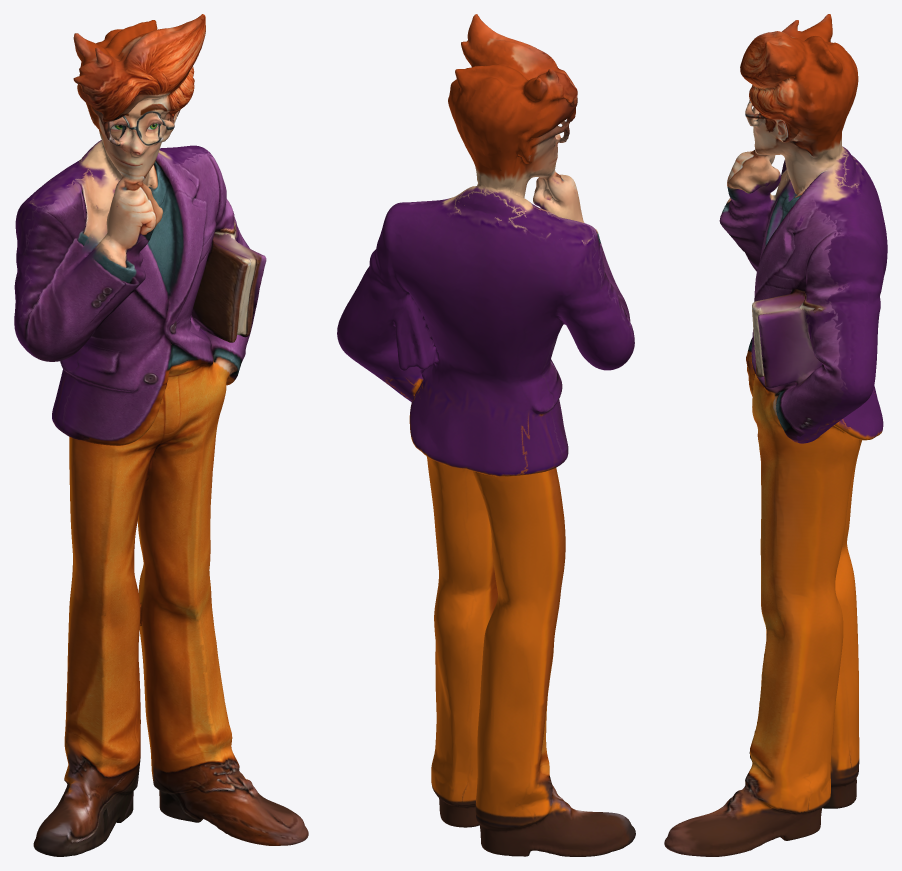
The model's file is current.glb.
3 views of the same model, side by side, from view 1: azimuth 30°, elevation 25°; view 2: azimuth 150°, elevation 25°; view 3: azimuth 270°, elevation 25° (orthographic). The views are drawn at different scales.
Visible parts, largest first — view 1: sus-plum; view 2: sus-plum; view 3: sus-plum.
Boxes of the visible parts, box(x1,y1,x2,y2) form: sus-plum: box(14, 14, 308, 856); sus-plum: box(337, 14, 635, 856); sus-plum: box(664, 14, 887, 856).
Size of the model in its own units: 0.6827 by 1.97 by 0.5052.
1 material, 1 textured.
